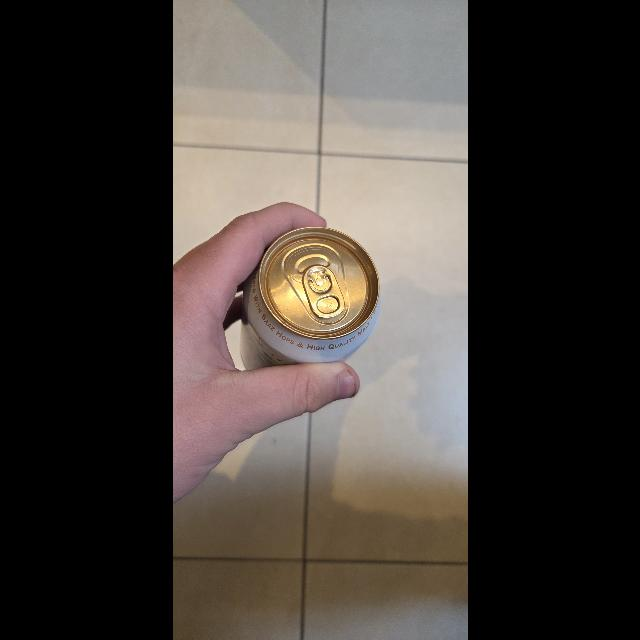Metal: (236, 221, 384, 367)
